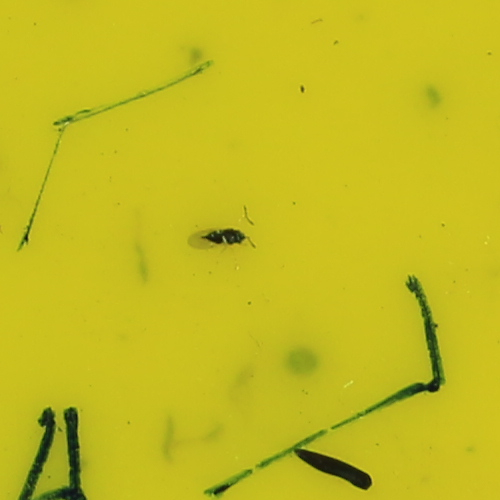Psyllaephagus: (196, 223, 248, 245)
